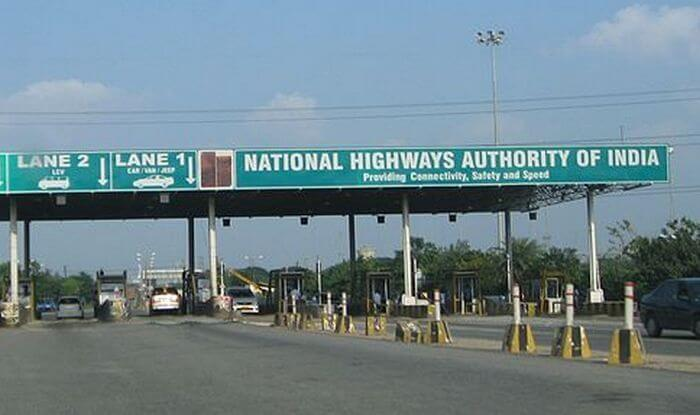toll plaza: (5, 138, 657, 330)
